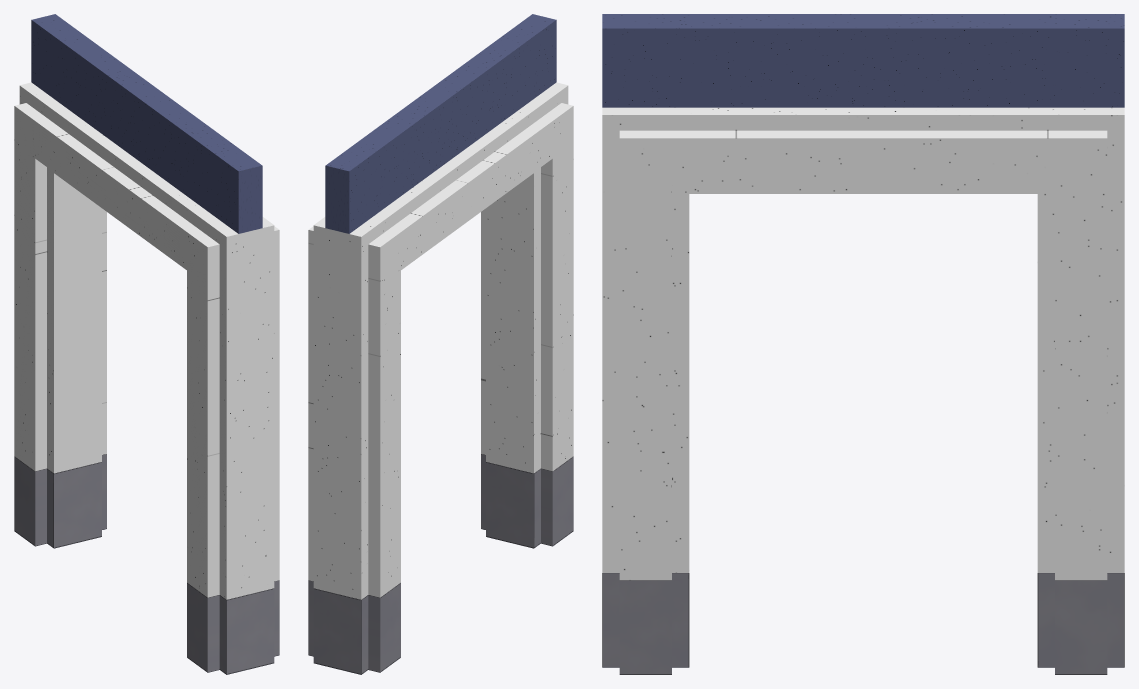
File: PuertaMarco.fbx
3 views of the same model, side by side, from view 1: azimuth 30°, elevation 25°; view 2: azimuth 150°, elevation 25°; view 3: azimuth 270°, elevation 25° (orthographic). The views are drawn at different scales.
Parts seen in each view (by area): view 1: PuertaMarco; view 2: PuertaMarco; view 3: PuertaMarco.
Part boxes in pixels (left/top/right/bottom): PuertaMarco: left=14, top=14, right=279, bottom=674; PuertaMarco: left=308, top=14, right=573, bottom=674; PuertaMarco: left=602, top=14, right=1124, bottom=674.
Size of what is drawn, in the model's own units: 300 by 60 by 400.
